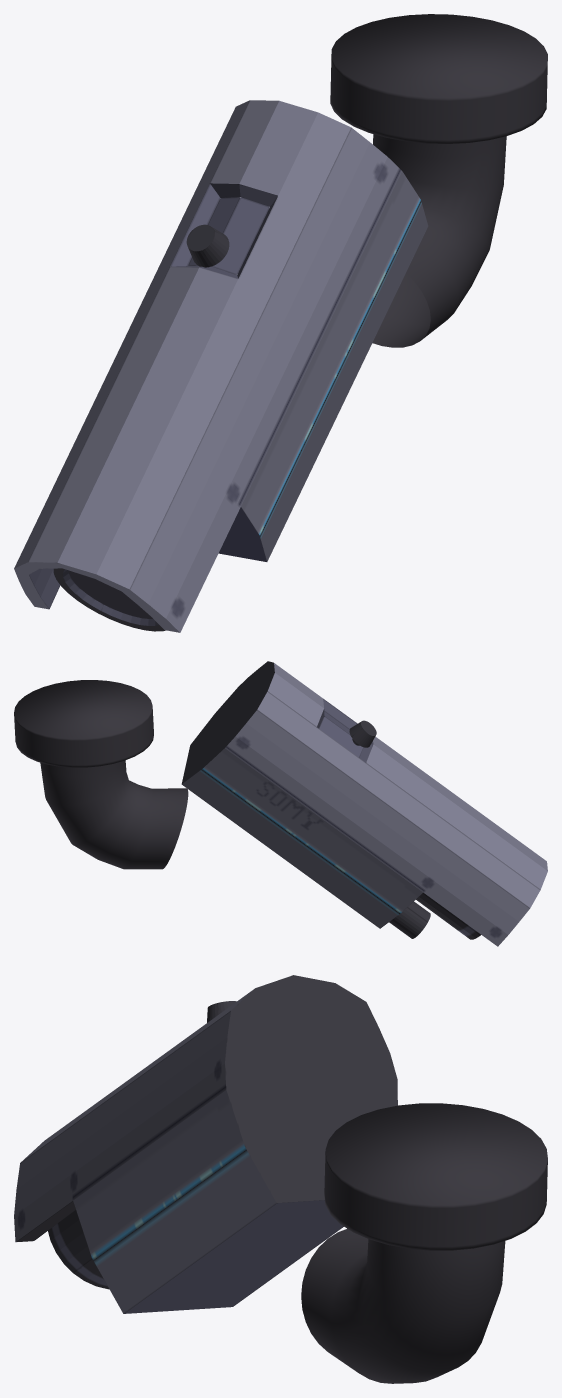
Rendered from Camera.fbx.
3 renders of one model, top to bottom at view 1: azimuth 30°, elevation 25°; view 2: azimuth 150°, elevation 25°; view 3: azimuth 270°, elevation 25°, orthographic. The views are drawn at different scales.
Parts seen in each view (by area): view 1: Cube.003, Cylinder.002; view 2: Cube.003, Cylinder.002; view 3: Cube.003, Cylinder.002.
Boxes of the visible parts, box(x1,y1,x2,y2) form: Cube.003: box(14, 100, 428, 632); Cylinder.002: box(330, 14, 547, 347); Cube.003: box(181, 661, 547, 946); Cylinder.002: box(14, 680, 188, 869); Cube.003: box(14, 975, 397, 1313); Cylinder.002: box(301, 1103, 547, 1383).
Bounding box in the file's own units: 52.98 × 31.91 × 36.36.
